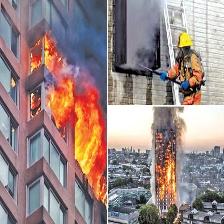fire: (24, 41, 109, 206), (152, 134, 179, 202)
smoke: (117, 1, 164, 68), (150, 105, 187, 129)
